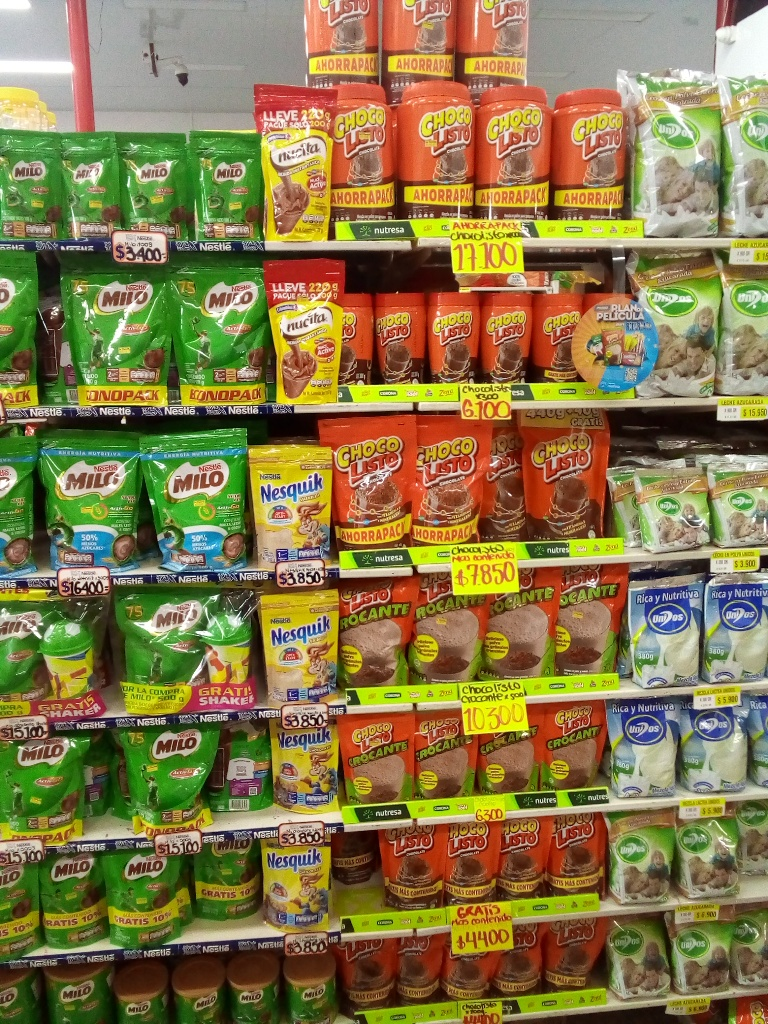COL0170102DYP25000: (334, 711, 416, 807)
COL0170102DYP50000: (328, 575, 417, 706)
COL0170103DYP44000: (317, 416, 423, 561)
COL0170103TRR00100: (319, 83, 400, 227)
COL0170103TRR30000: (333, 293, 375, 386)
COL0170203DYP10000: (190, 129, 258, 237)
COL0170203DYP50000: (111, 586, 213, 728)
COL0170203LAT40000: (282, 952, 338, 1022)
COL0170303DYP20000: (267, 835, 336, 936)
COL0170306DYP20000: (255, 587, 346, 700)
